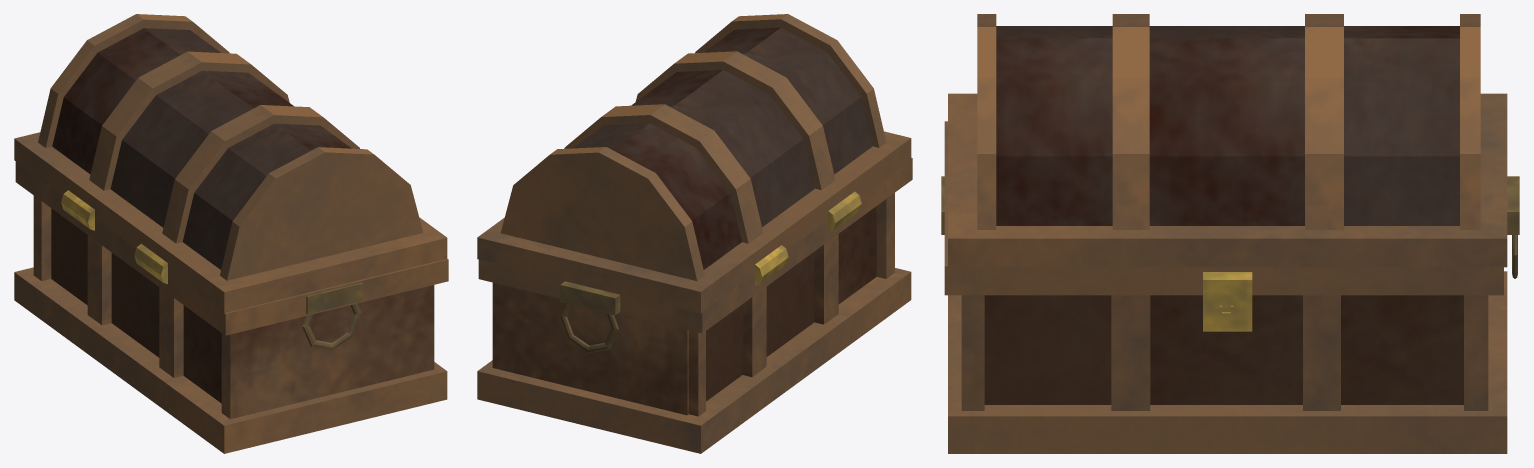
The model's file is TreasureChestColor.fbx.
3 views of the same model, side by side, from view 1: azimuth 30°, elevation 25°; view 2: azimuth 150°, elevation 25°; view 3: azimuth 270°, elevation 25° (orthographic). The views are drawn at different scales.
Visible parts, largest first — view 1: Chest; view 2: Chest; view 3: Chest.
Part boxes in pixels (<box>): Chest: <box>14,14,448,453</box>; Chest: <box>477,14,912,453</box>; Chest: <box>941,14,1519,453</box>.
Bounding box in the file's own units: 14.68 × 15.42 × 22.79.
